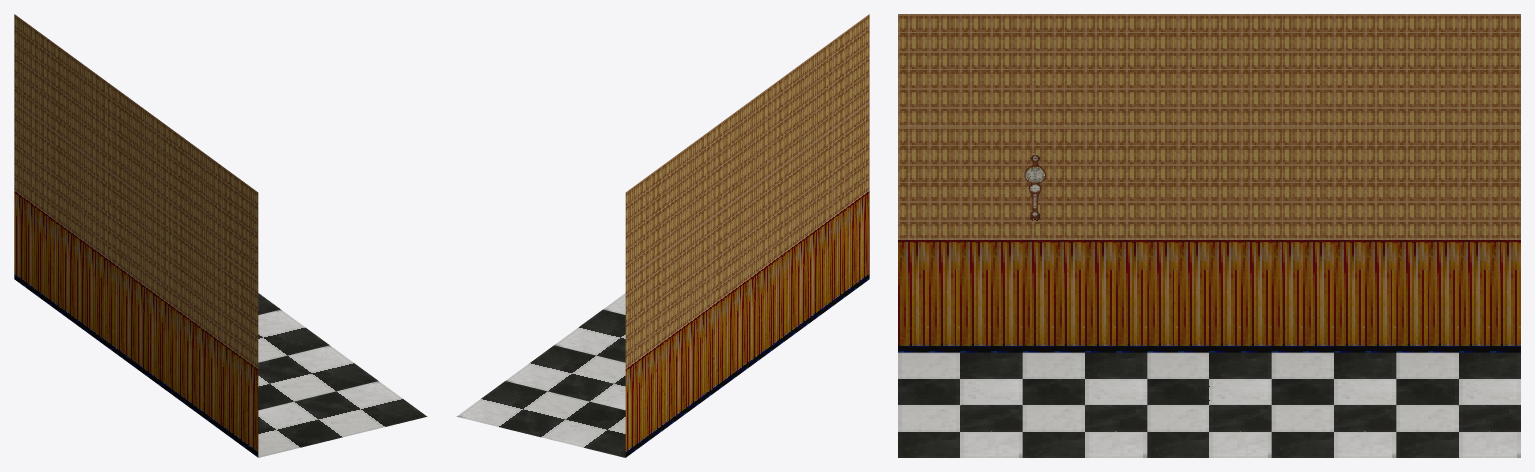
File: interieurtest.glb
The picture shows the model from 3 angles, left to right: view 1: azimuth 30°, elevation 25°; view 2: azimuth 150°, elevation 25°; view 3: azimuth 270°, elevation 25°; orthographic projection. The views are drawn at different scales.
Parts seen in each view (by area): view 1: Plane; view 2: Plane; view 3: Plane, Plane.001.
Part boxes in pixels (x1,y1,x2,y2): Plane: (14,14,427,457); Plane: (456,14,869,457); Plane: (898,14,1520,457); Plane.001: (1024,154,1046,221).
Bounding box in the file's own units: 2 × 3 × 5.
2 materials, 2 textured.
